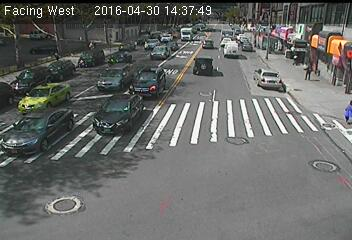neg: (258, 143, 292, 188), (44, 150, 78, 195), (203, 137, 231, 174), (170, 63, 195, 95), (84, 103, 108, 136), (239, 68, 262, 100), (62, 51, 83, 80), (199, 51, 220, 79), (149, 149, 170, 176), (142, 34, 162, 60), (95, 193, 114, 218), (121, 87, 138, 110), (162, 198, 176, 217)
pos: (300, 60, 315, 81)
